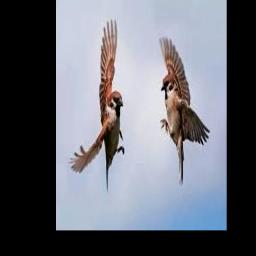Sparrow: (69, 19, 125, 190), (159, 36, 211, 187)
